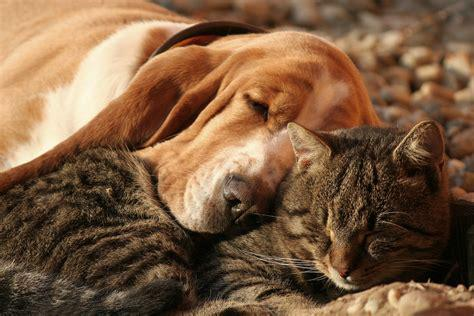dog: (1, 1, 383, 230), (1, 121, 446, 316)
